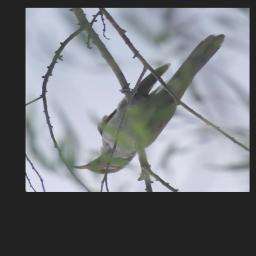Cuckoo: (74, 32, 233, 175)
